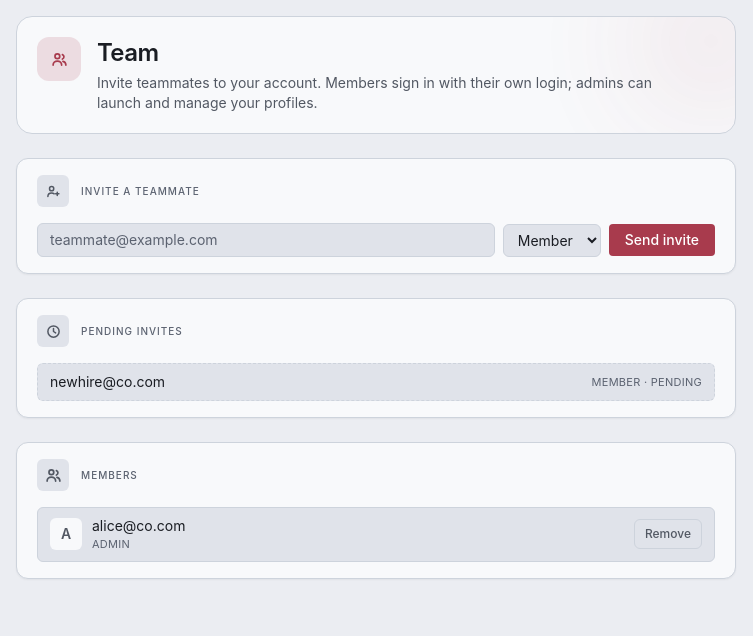
Test case: TeamView › does not expose native transport diagnostics when an invite fails
The width and height of the screenshot is (753, 636).
Expected: the text "alice@co.com" is shown, [92, 516, 185, 536]
Type "carol@co.com" into the field named "Invitee email".
click(266, 240); type("carol@co.com")  # box [37, 223, 495, 257]
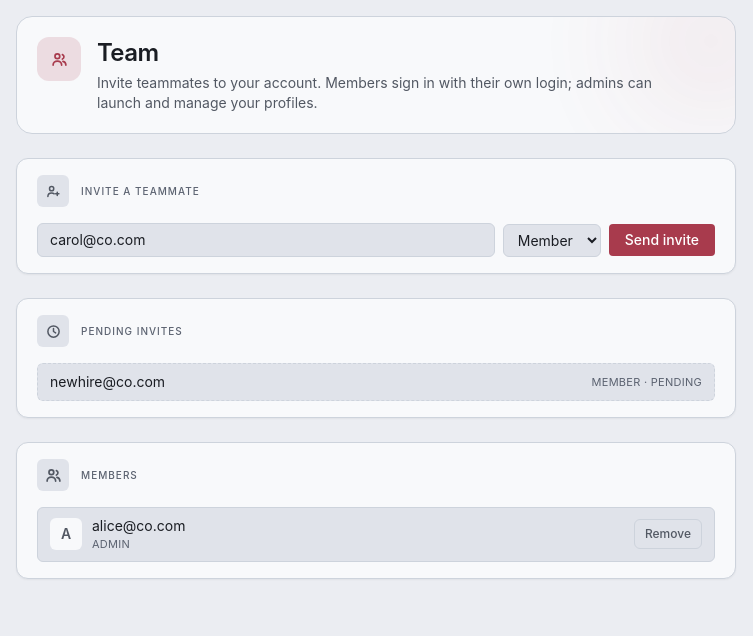
Click the button "Send invite".
click(662, 240)  # box [609, 224, 715, 256]
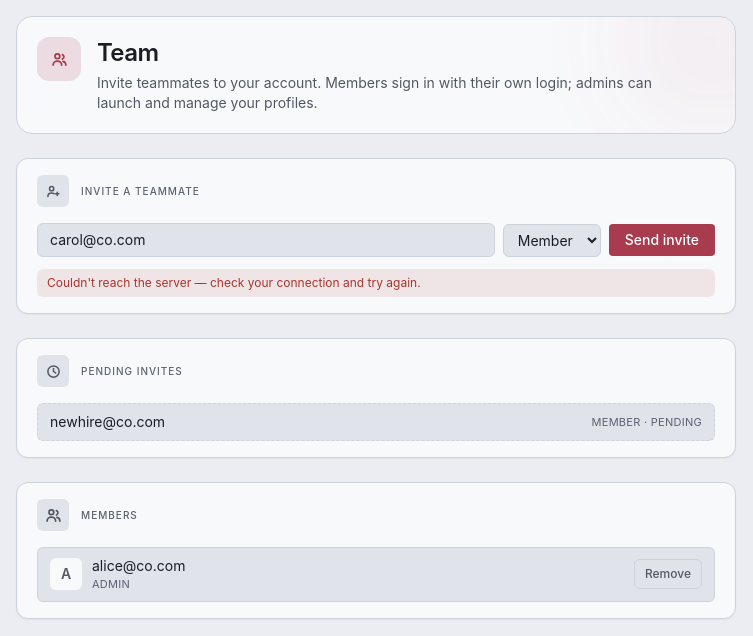
Expected: the message does not show "internal-team.private", [37, 269, 715, 297]
Expected: the message reads "Couldn't reach the server — check your connection and try again.", [47, 275, 421, 290]
